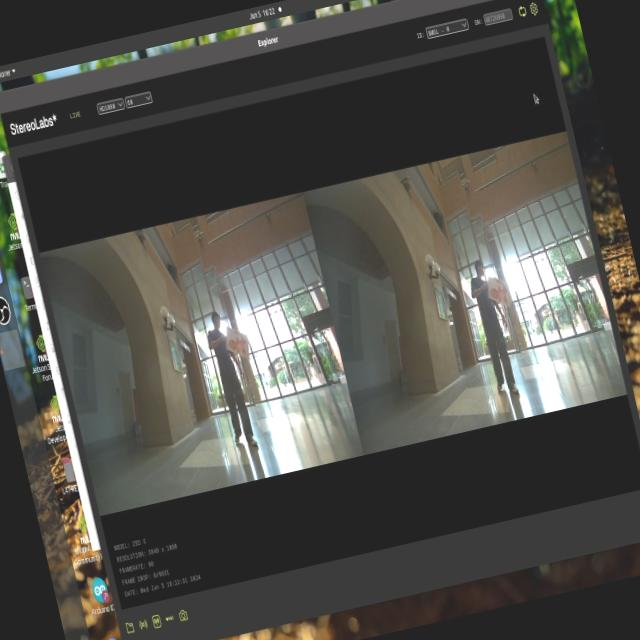red: (227, 326, 258, 374), (489, 270, 518, 316)
